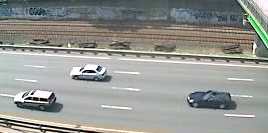car: (12, 88, 59, 111), (185, 87, 232, 109), (69, 62, 111, 83)
